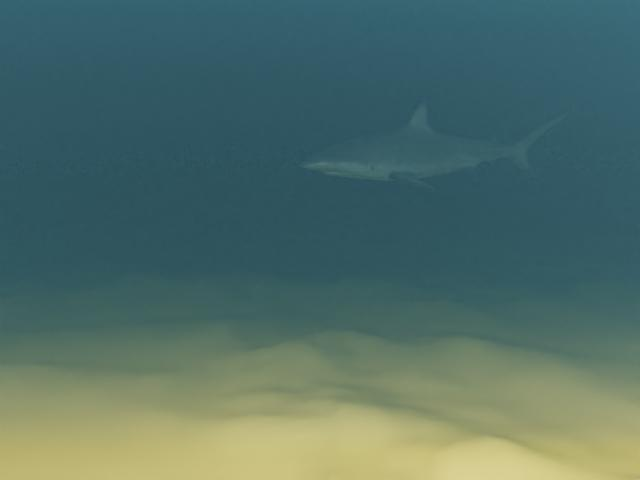Carribean Shark.001: (300, 99, 579, 191)
